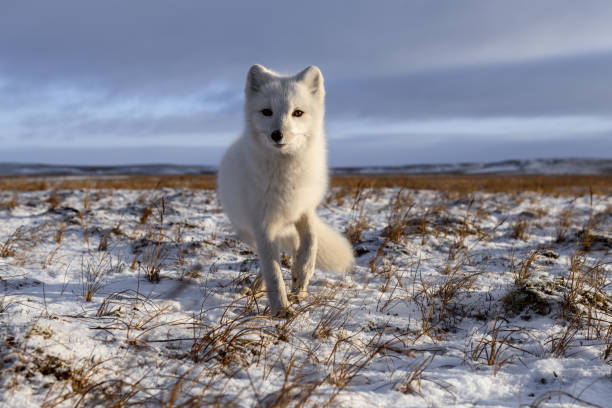arcticfox: (255, 92, 328, 182)
